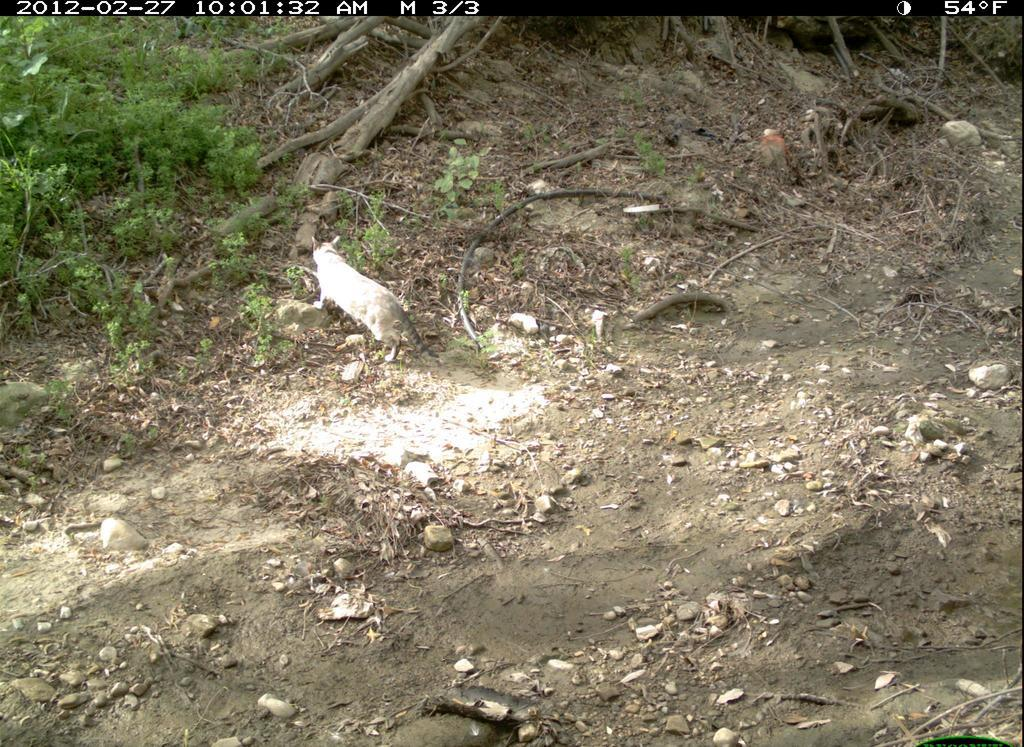cat: (297, 230, 443, 365)
